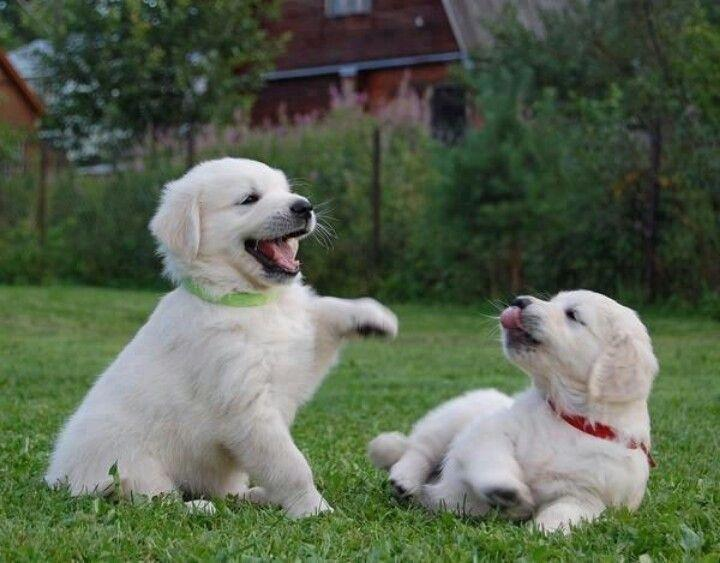puppy-dog: (41, 154, 400, 520), (367, 287, 661, 537)
